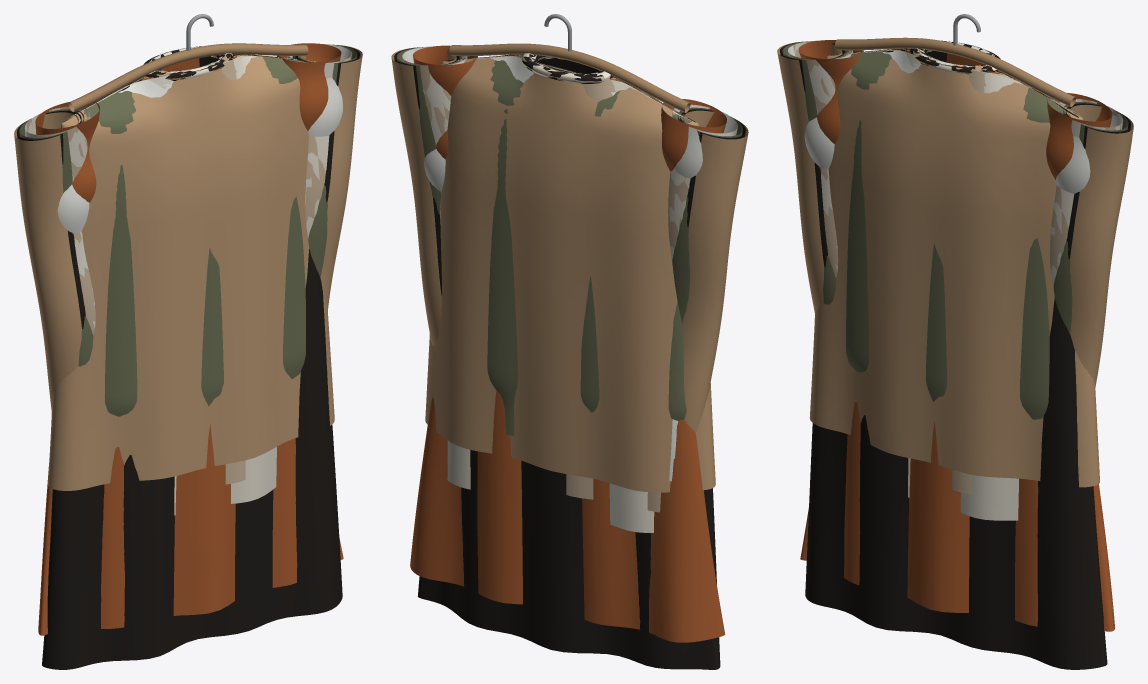
File: rack.glb
3 renders of one model, left to right at view 1: azimuth 30°, elevation 25°; view 2: azimuth 150°, elevation 25°; view 3: azimuth 330°, elevation 25°, orthographic.
Parts seen in each view (by area): view 1: garment_kraft, garment_ink, garment_copper, garment_olive, garment_linen, hanger, garment_terrazzo, garment_stone; view 2: garment_kraft, garment_copper, garment_ink, garment_olive, garment_linen, hanger, garment_terrazzo, garment_stone; view 3: garment_kraft, garment_ink, garment_copper, garment_olive, garment_linen, hanger, garment_terrazzo, garment_stone.
Part boxes in pixels (x1,y1,x2,y2): garment_kraft: (14,45,362,490); garment_ink: (16,45,359,669); garment_copper: (35,43,343,635); garment_olive: (19,44,357,416); garment_linen: (25,44,350,515); hanger: (68,14,308,112); garment_terrazzo: (27,44,351,484); garment_stone: (24,45,351,233); garment_kraft: (391,47,748,492); garment_copper: (410,45,726,642); garment_ink: (394,47,745,669); garment_olive: (396,47,742,435); garment_linen: (404,47,737,532); hanger: (449,14,690,112); garment_terrazzo: (402,47,735,512); garment_stone: (402,46,737,481); garment_kraft: (777,42,1133,487); garment_ink: (780,40,1130,669); garment_copper: (798,40,1114,631); garment_olive: (782,41,1128,419); garment_linen: (790,41,1122,520); hanger: (835,14,1075,106); garment_terrazzo: (788,41,1120,494); garment_stone: (788,40,1122,193).
Bounding box in the file's own units: 0.6528 × 1.1 × 0.1466.
3 materials, 3 textured.
